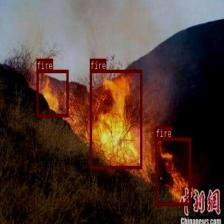fire: (90, 70, 142, 168), (155, 137, 190, 205), (36, 70, 68, 116)
